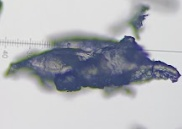microplastic: (3, 37, 181, 99), (54, 34, 149, 93), (127, 3, 150, 43), (1, 1, 4, 16)
